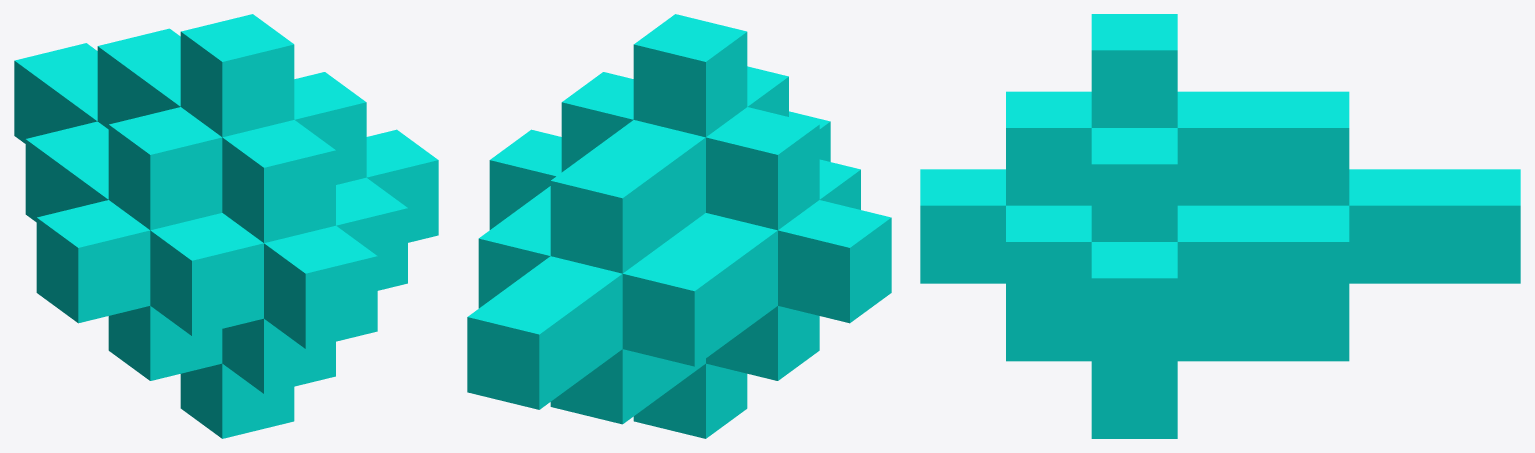
Rendered from SplatProjectile.obj.
The picture shows the model from 3 angles, left to right: view 1: azimuth 30°, elevation 25°; view 2: azimuth 150°, elevation 25°; view 3: azimuth 270°, elevation 25°; orthographic projection. The views are drawn at different scales.
Size of the model in its own units: 5 by 5 by 7.
1 material, 1 textured.
